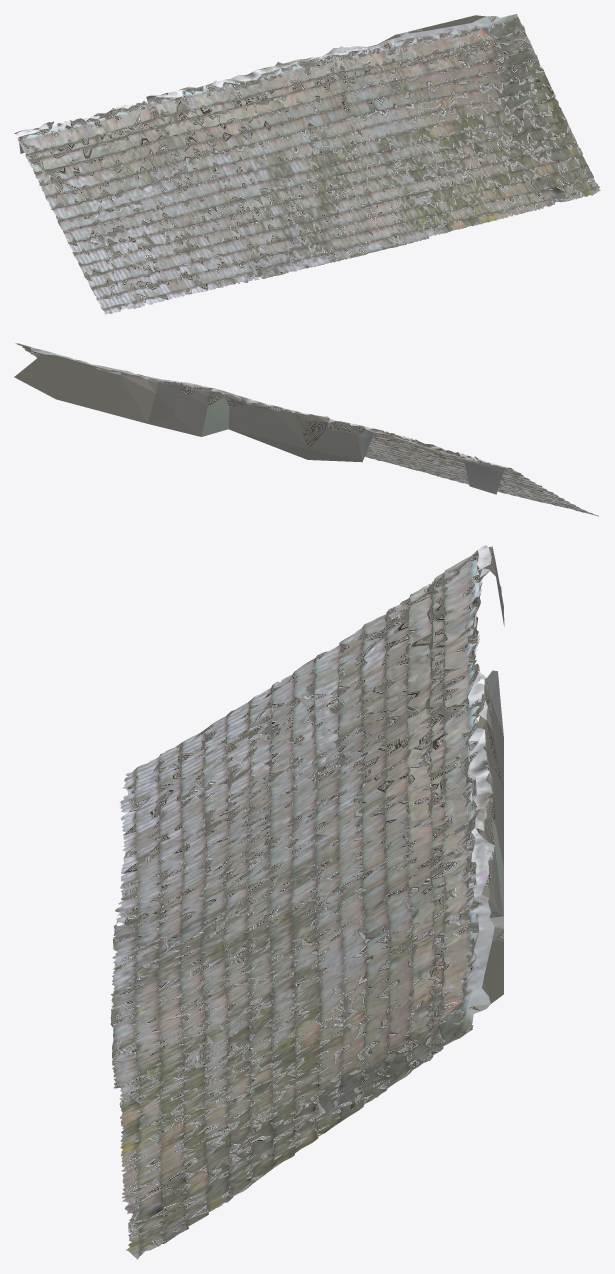
The model's file is reception-old-house-roof.glb.
3 renders of one model, top to bottom at view 1: azimuth 30°, elevation 25°; view 2: azimuth 150°, elevation 25°; view 3: azimuth 270°, elevation 25°, orthographic. The views are drawn at different scales.
Parts seen in each view (by area): view 1: Object_2; view 2: Object_2; view 3: Object_2.
Part boxes in pixels (x1,y1,x2,y2): Object_2: [14, 14, 600, 314]; Object_2: [14, 343, 598, 516]; Object_2: [110, 545, 504, 1259].
Size of the model in its own units: 940 by 219 by 321.
1 material, 1 textured.
